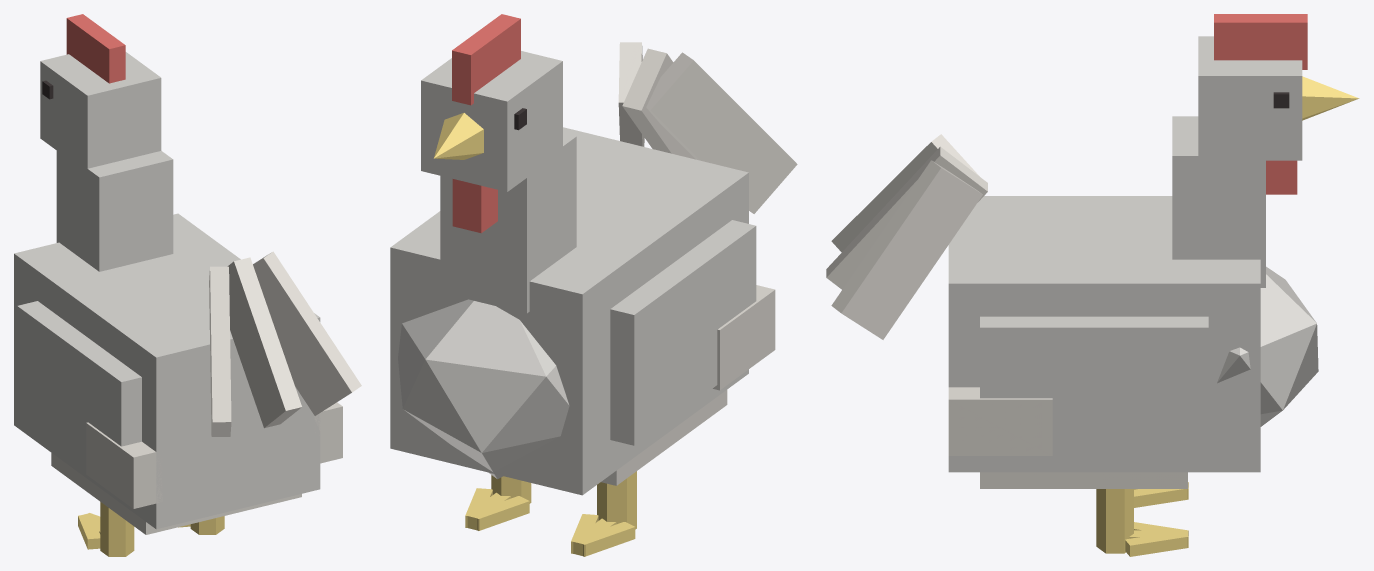
Rendered from chicken.glb.
3 renders of one model, left to right at view 1: azimuth 30°, elevation 25°; view 2: azimuth 150°, elevation 25°; view 3: azimuth 270°, elevation 25°, orthographic. The views are drawn at different scales.
Visible parts, largest first — view 1: chicken; view 2: chicken; view 3: chicken.
Part boxes in pixels (x1=…): chicken: x1=14, y1=14, x2=361, y2=556; chicken: x1=390, y1=14, x2=797, y2=556; chicken: x1=826, y1=14, x2=1359, y2=556.
Size of the model in its own units: 0.255 by 0.535 by 0.5127.
